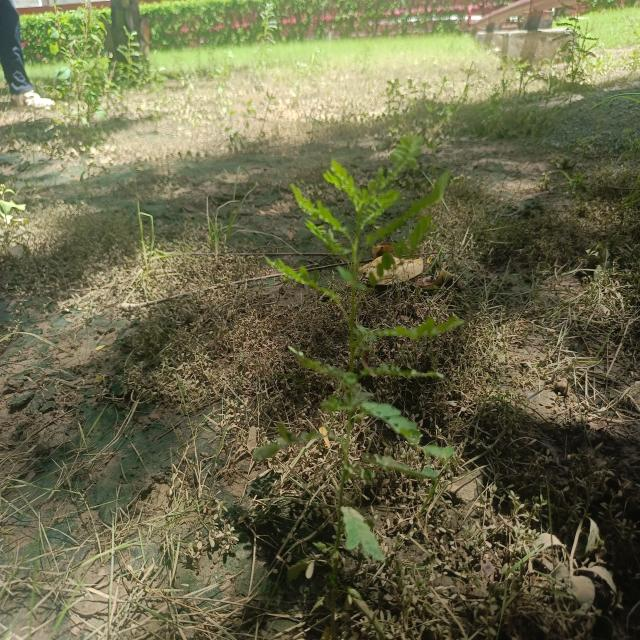weed: (257, 120, 476, 596)
